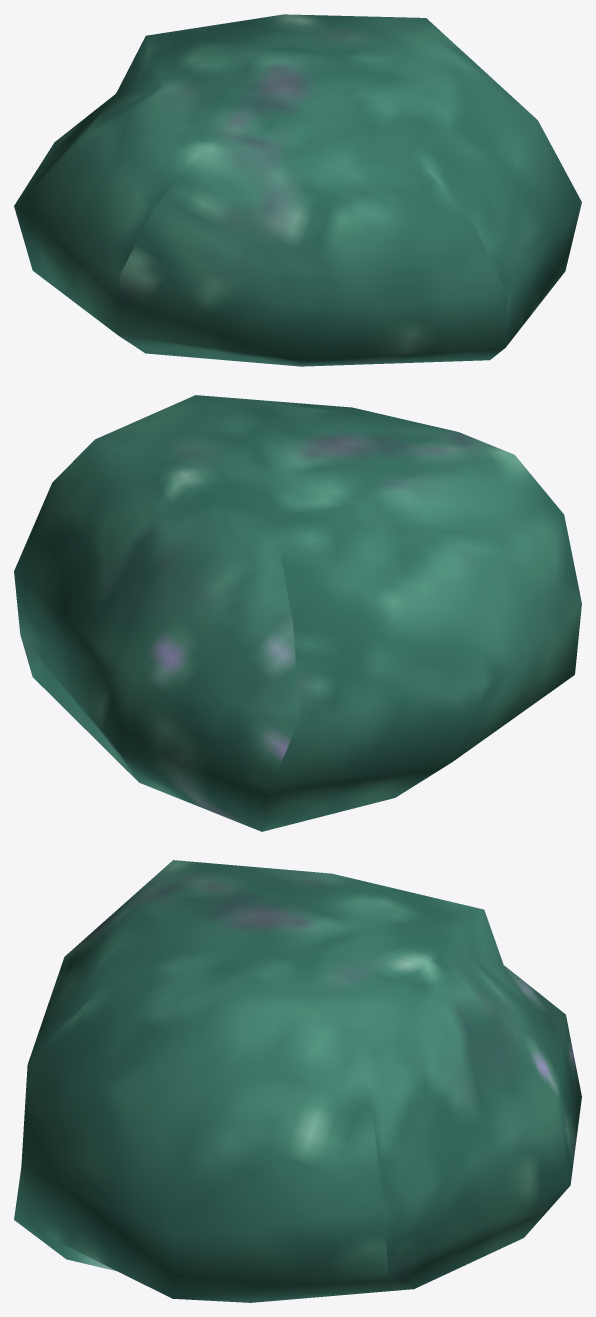
The model's file is rock_1_small.fbx.
The picture shows the model from 3 angles, top to bottom: view 1: azimuth 30°, elevation 25°; view 2: azimuth 150°, elevation 25°; view 3: azimuth 270°, elevation 25°; orthographic projection. The views are drawn at different scales.
Parts seen in each view (by area): view 1: rock_1_small; view 2: rock_1_small; view 3: rock_1_small.
Boxes of the visible parts, <box> form: rock_1_small: <box>14,14,581,366</box>; rock_1_small: <box>14,395,581,831</box>; rock_1_small: <box>14,860,581,1302</box>.
Size of the model in its own units: 43.27 by 23.34 by 40.59.
